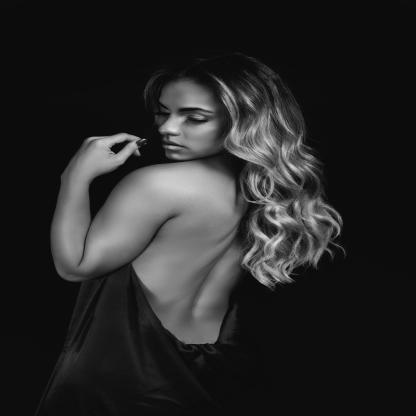Eye: (182, 112, 210, 124), (152, 107, 172, 117)
Mouth: (160, 138, 184, 152)
Nose: (157, 115, 181, 138)
